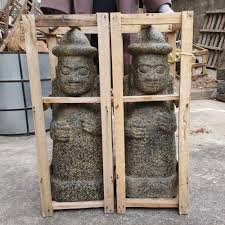Stone Statue: (40, 22, 114, 210), (119, 17, 189, 207)
